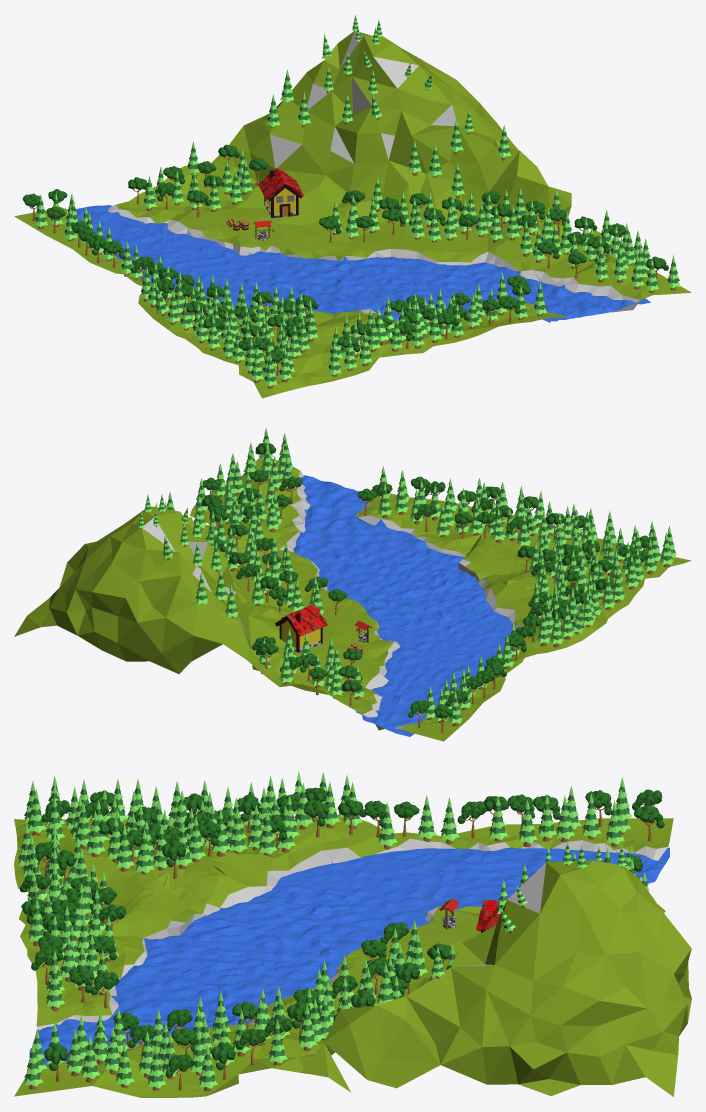
File: Low_Poly_Forest.glb
3 views of the same model, one above another, from view 1: azimuth 30°, elevation 25°; view 2: azimuth 150°, elevation 25°; view 3: azimuth 270°, elevation 25° (orthographic). The views are drawn at different scales.
Visible parts, largest first — view 1: Ground, Lake, House; view 2: Ground, Lake, House; view 3: Ground, Lake, House, tree.009, tree.011.
Boxes of the visible parts, x1,y1,x2,y2 form: Ground: (14,31,691,398); Lake: (76,205,650,322); House: (258,168,303,217); Ground: (14,457,691,741); Lake: (293,475,512,736); House: (275,604,327,652); Ground: (14,814,691,1097); Lake: (29,847,669,1066); House: (476,899,500,932); tree.009: (634,804,664,841); tree.011: (457,801,486,838).
Bounding box in the file's own units: 9.39 × 4.11 × 9.65.
